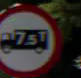Heavy Vehicles: (1, 2, 60, 75)
